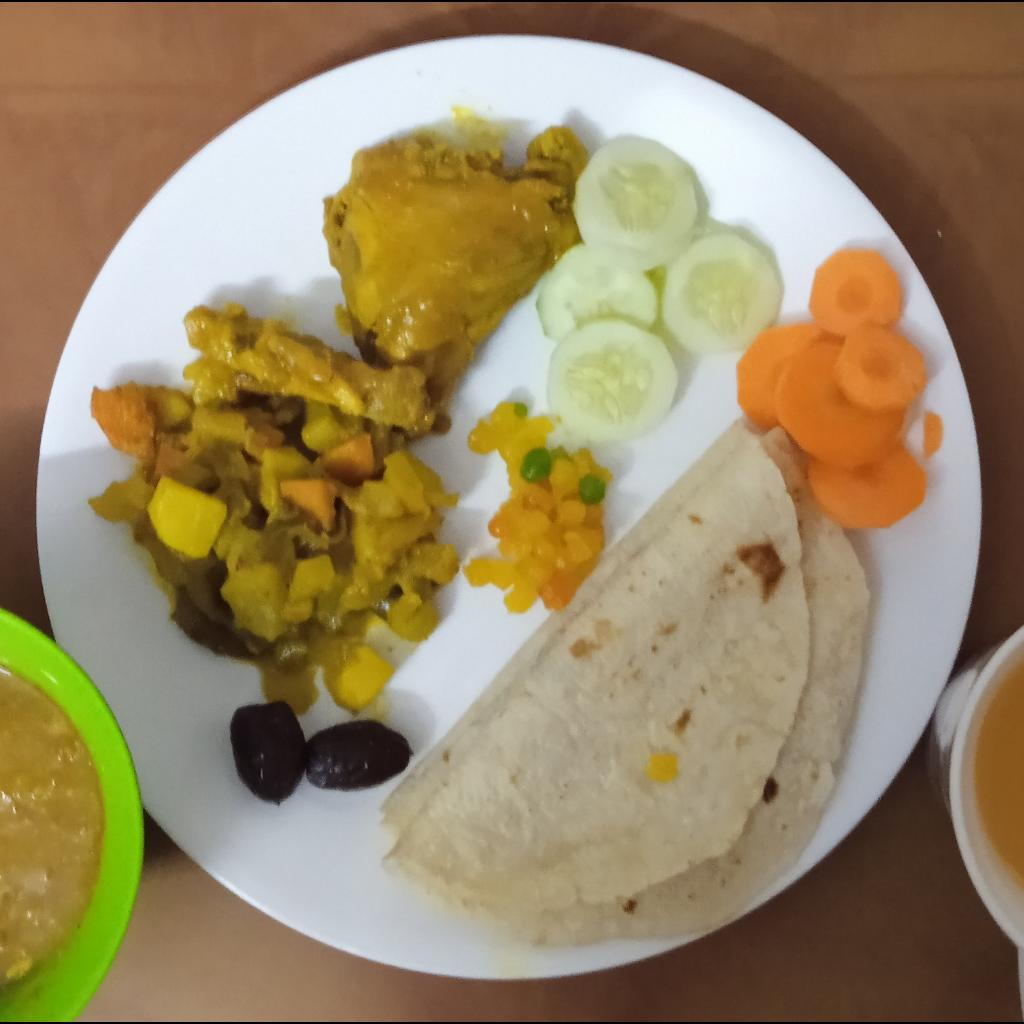burinda: (462, 401, 615, 614)
carrot: (738, 247, 931, 530)
chicken: (185, 125, 586, 437)
cucumber: (535, 138, 783, 449)
dates: (227, 701, 413, 807)
juice: (951, 643, 1024, 949)
payesh: (0, 671, 104, 986)
ruti: (380, 420, 872, 946)
vegetable: (89, 382, 461, 717)
